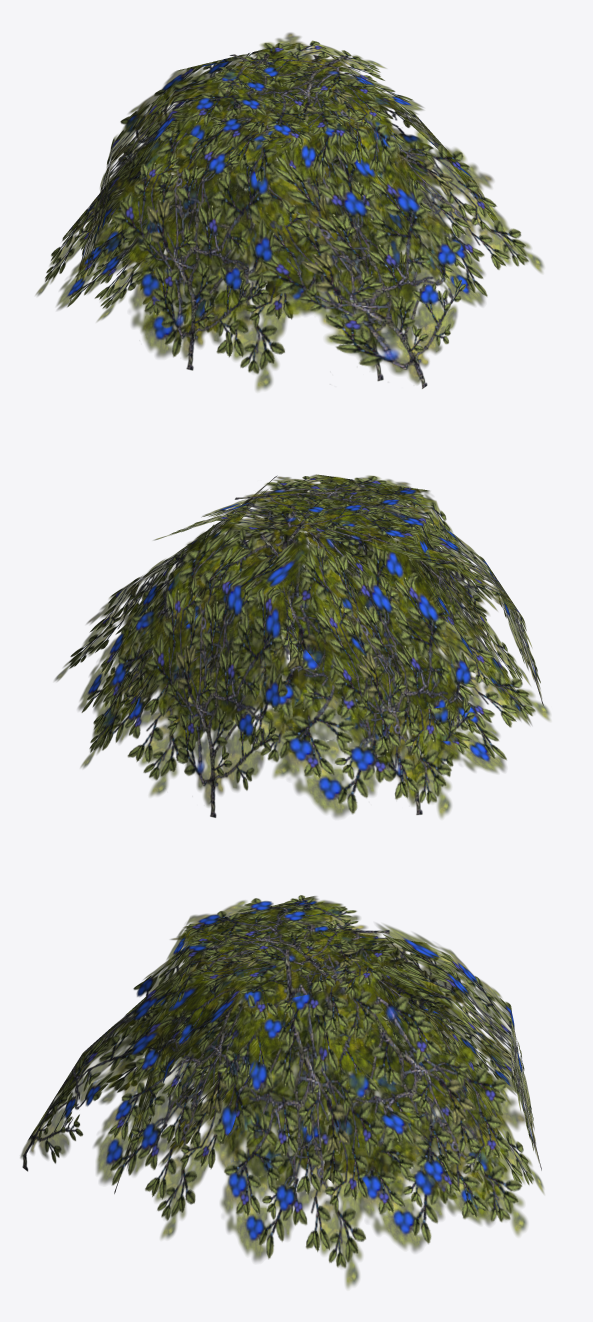
File: plant-07.glb
The picture shows the model from 3 angles, top to bottom: view 1: azimuth 30°, elevation 25°; view 2: azimuth 150°, elevation 25°; view 3: azimuth 270°, elevation 25°; orthographic projection. The views are drawn at different scales.
Parts seen in each view (by area): view 1: wrld_foragebush_a01; view 2: wrld_foragebush_a01; view 3: wrld_foragebush_a01.
Boxes of the visible parts, left/top/right/bottom form: wrld_foragebush_a01: left=36, top=32, right=543, bottom=390; wrld_foragebush_a01: left=54, top=474, right=549, bottom=817; wrld_foragebush_a01: left=20, top=895, right=543, bottom=1288.
Bounding box in the file's own units: 5.8 × 2.98 × 5.53.
1 material, 1 textured.
